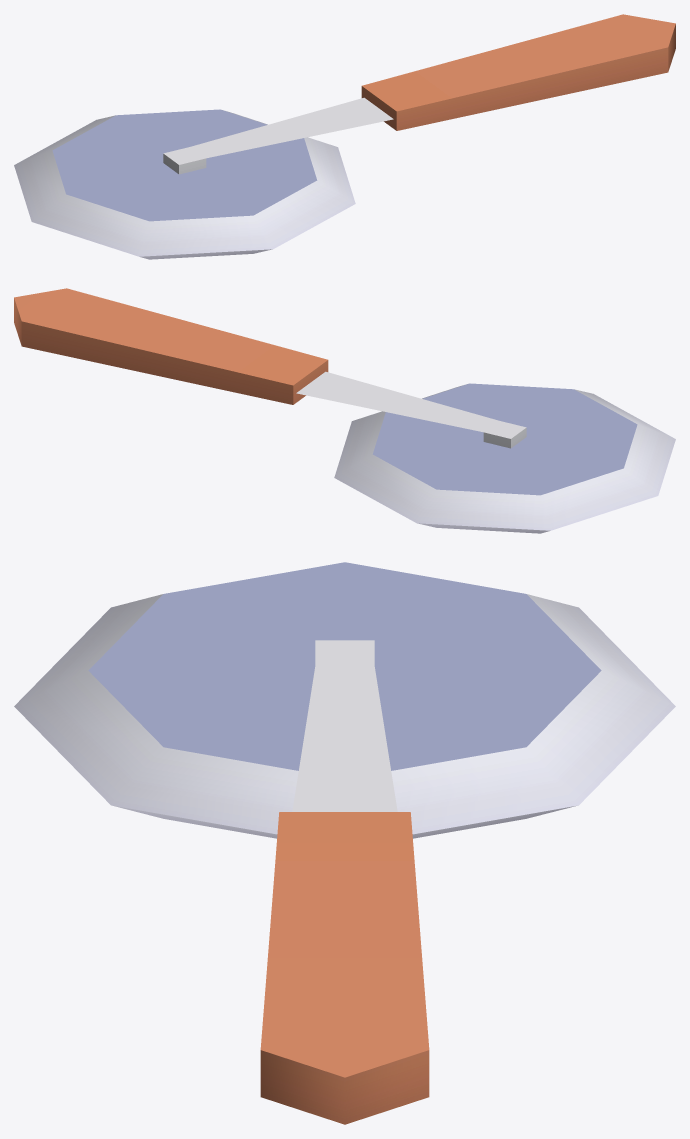
File: pizza-cutter.glb
3 views of the same model, one above another, from view 1: azimuth 30°, elevation 25°; view 2: azimuth 150°, elevation 25°; view 3: azimuth 270°, elevation 25° (orthographic). The views are drawn at different scales.
Parts seen in each view (by area): view 1: pizza-cutter; view 2: pizza-cutter; view 3: pizza-cutter.
Boxes of the visible parts, bbox=[...] form: pizza-cutter: bbox=[14, 14, 675, 259]; pizza-cutter: bbox=[14, 288, 675, 533]; pizza-cutter: bbox=[14, 562, 675, 1124].
Bounding box in the file's own units: 0.536 × 0.0556 × 0.2549.
1 material, 1 textured.
